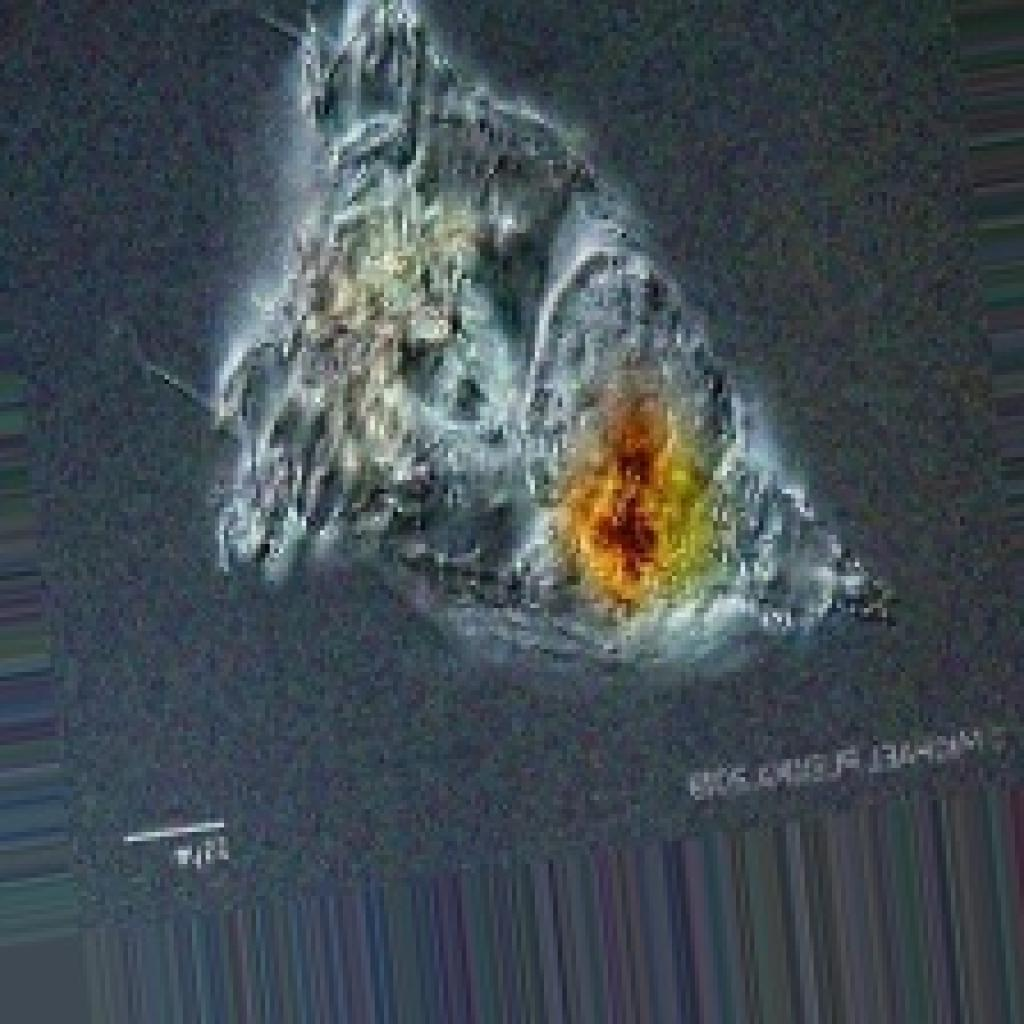Rotifer: (94, 0, 940, 711)
